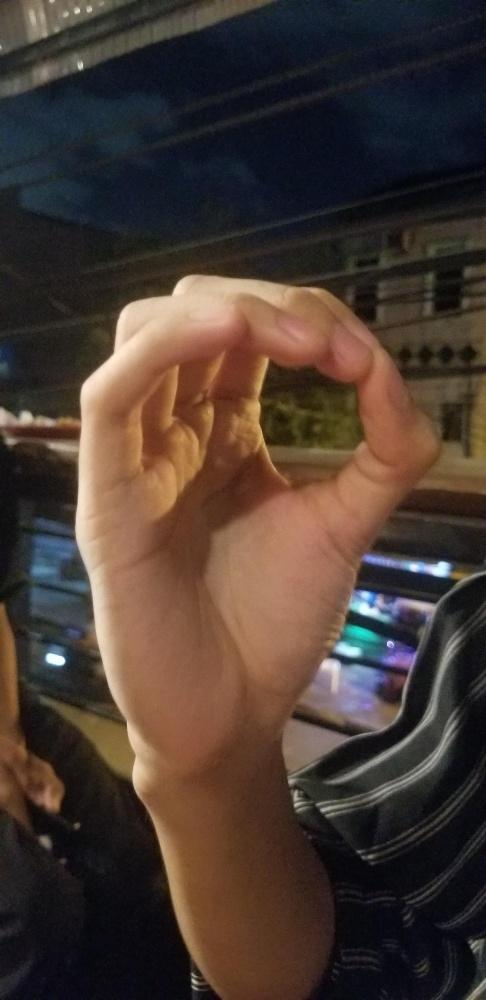o: (70, 273, 444, 743)
